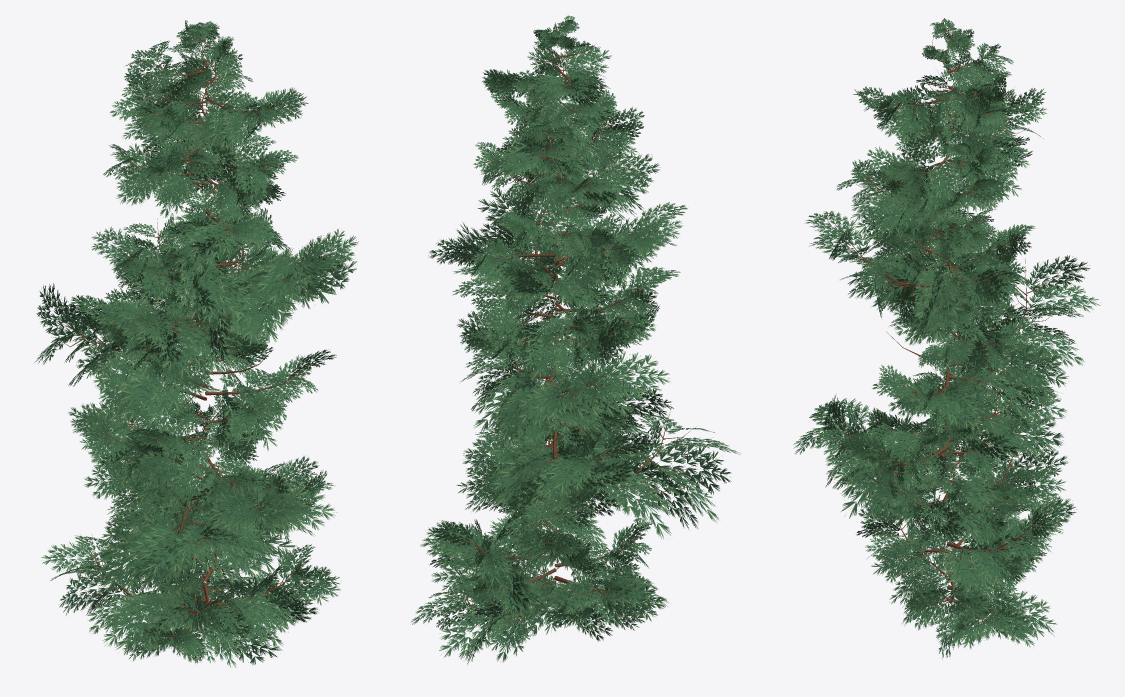
The model's file is forest-pine-lod1.glb.
The picture shows the model from 3 angles, left to right: view 1: azimuth 30°, elevation 25°; view 2: azimuth 150°, elevation 25°; view 3: azimuth 270°, elevation 25°; orthographic projection. The views are drawn at different scales.
Visible parts, largest first — view 1: redwood-crown; view 2: redwood-crown; view 3: redwood-crown.
Part boxes in pixels (box(x1,y1,x2,y2)): redwood-crown: box(34, 20, 358, 667); redwood-crown: box(411, 15, 740, 664); redwood-crown: box(793, 18, 1101, 658).
Size of the model in its own units: 16.74 by 38.24 by 18.42.
4 materials, 3 textured.
